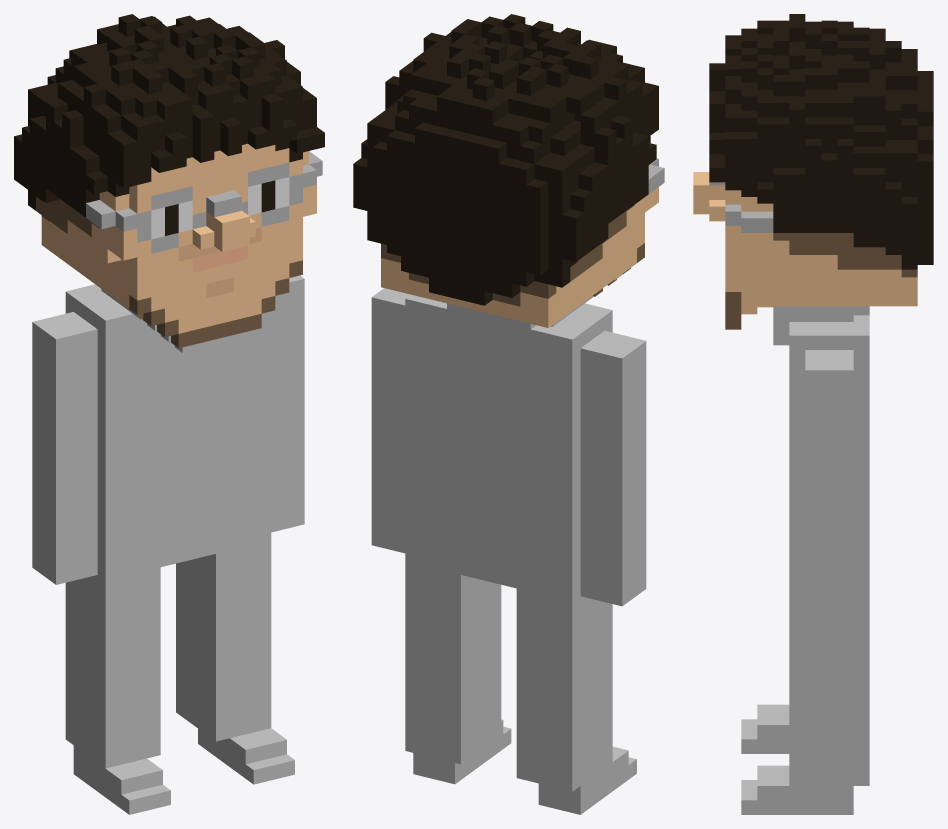
Rendered from Artist.fbx.
The picture shows the model from 3 angles, left to right: view 1: azimuth 30°, elevation 25°; view 2: azimuth 150°, elevation 25°; view 3: azimuth 270°, elevation 25°; orthographic projection.
Parts seen in each view (by area): view 1: Untitled, Untitled.001; view 2: Untitled, Untitled.001; view 3: Untitled.001, Untitled.
Part boxes in pixels (bbox=[...]): Untitled: bbox=[32, 275, 304, 814]; Untitled.001: bbox=[14, 14, 324, 348]; Untitled: bbox=[371, 288, 646, 814]; Untitled.001: bbox=[353, 14, 664, 327]; Untitled.001: bbox=[693, 14, 933, 329]; Untitled: bbox=[741, 306, 869, 814].
Bounding box in the file's own units: 180 × 500 × 150.
